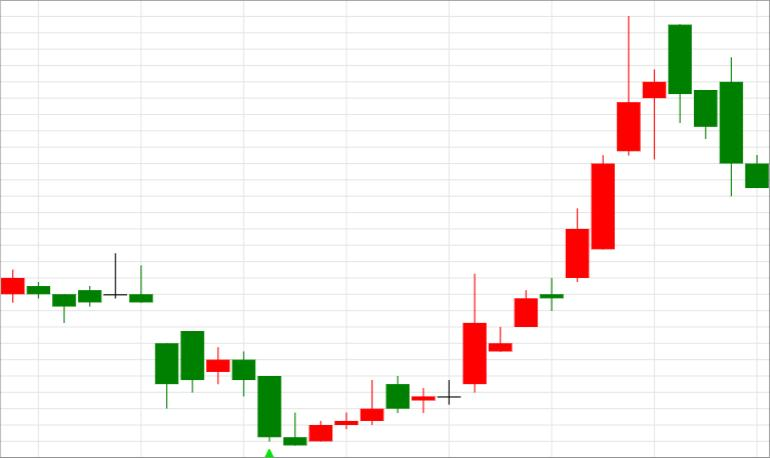shooting_star_fall: (463, 17, 641, 392)
